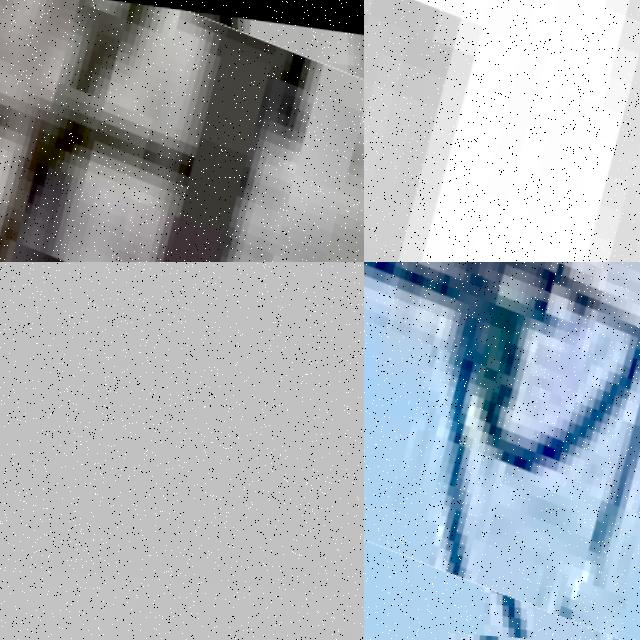0: (364, 262, 640, 640), (0, 0, 364, 262)
drone: (364, 0, 640, 262)
